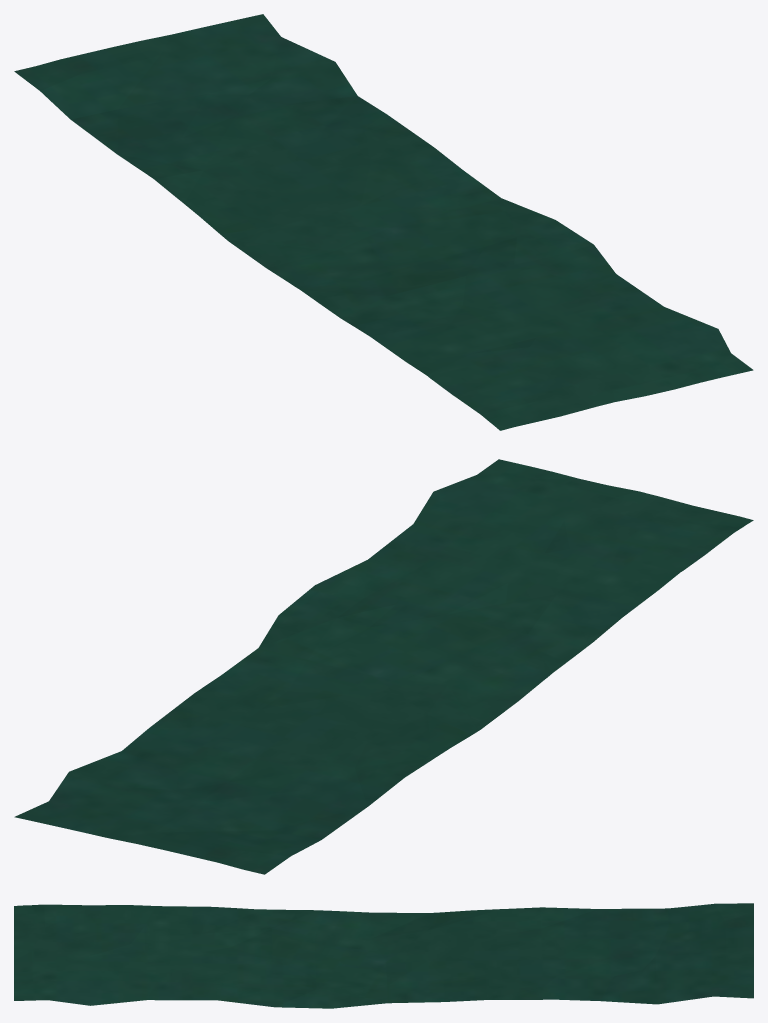
The picture shows the model from 3 angles, top to bottom: view 1: azimuth 30°, elevation 25°; view 2: azimuth 150°, elevation 25°; view 3: azimuth 270°, elevation 25°; orthographic projection. The views are drawn at different scales.
Bounding box in the file's own units: 16.64 × 0.8063 × 52.22.
Materials: 1 (1 with a texture image).
